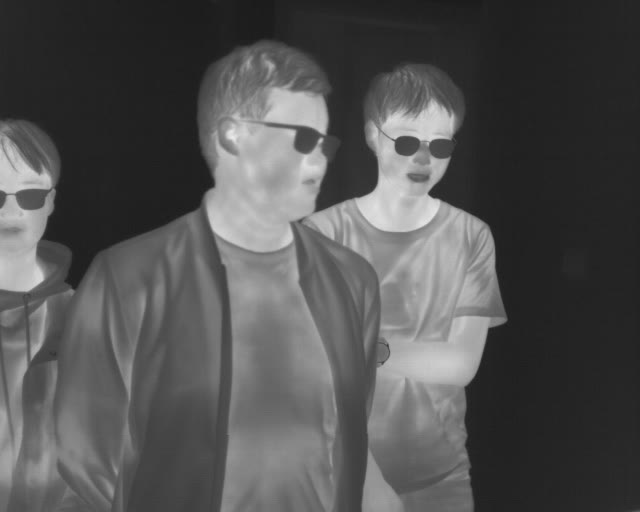face: (194, 37, 333, 221), (364, 60, 463, 198), (1, 117, 61, 253)
